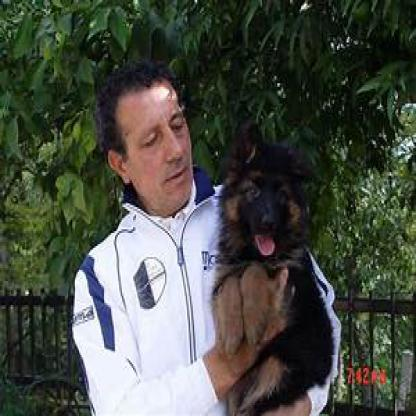dog: (215, 124, 336, 414)
